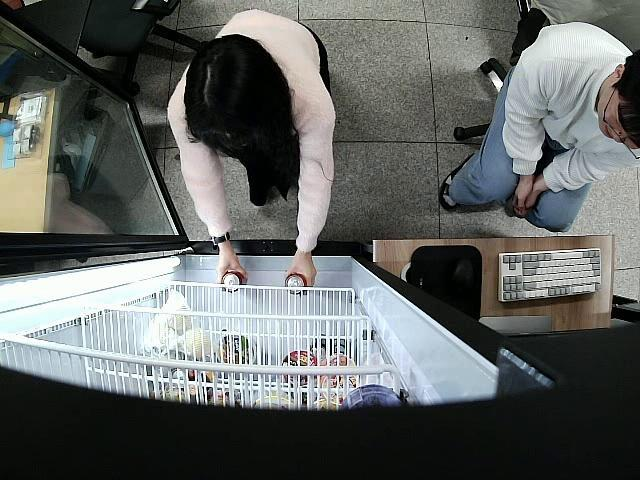11_cocaColaZero: (220, 270, 246, 294), (285, 273, 307, 295)
